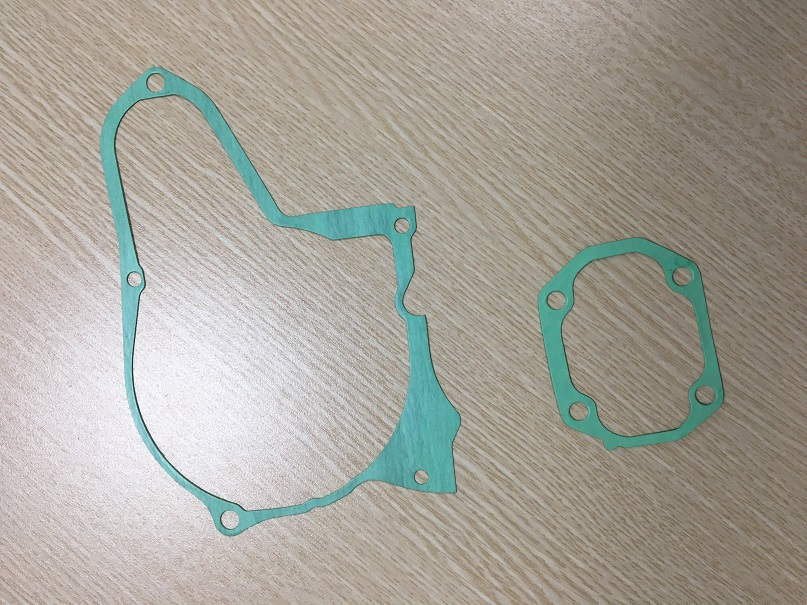type1: (93, 60, 467, 544)
type2: (526, 229, 732, 449)
